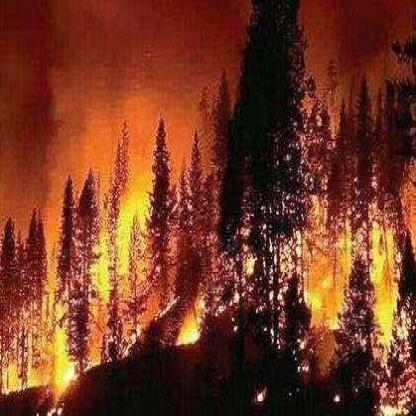fire: (295, 169, 404, 363), (93, 143, 165, 300), (0, 286, 105, 387), (168, 289, 210, 344)
smoke: (18, 12, 226, 157), (316, 7, 406, 94)
